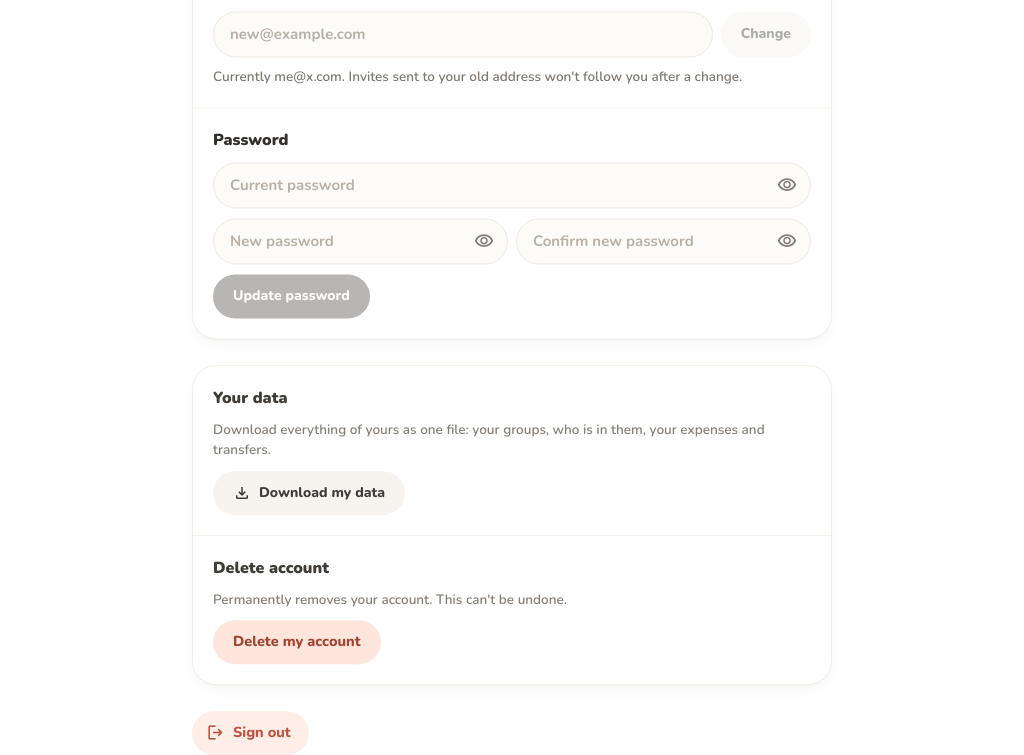
Account › if the database refuses (you own a group others are in), the reason is shown and you stay signed in
(page scrolled)
Click the button "Delete my account".
click(297, 642)  # box [213,620,380,664]
(page scrolled)
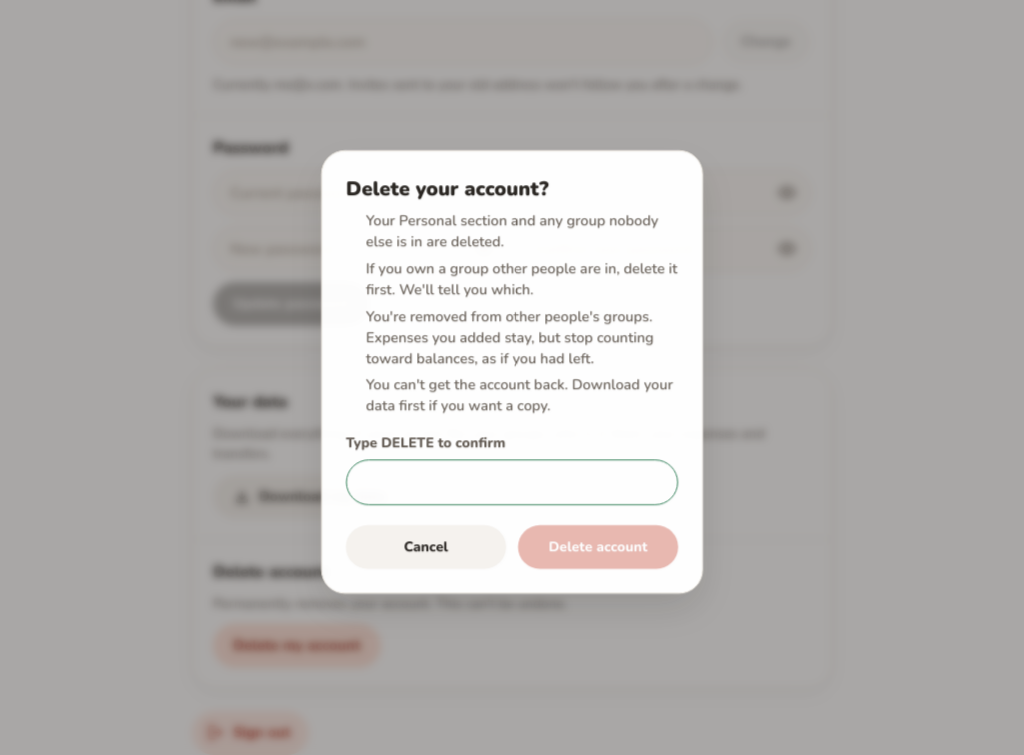
Type "DELETE" into the field labelled "Type DELETE to confirm".
click(512, 482); type("DELETE")  # box [346,460,678,505]
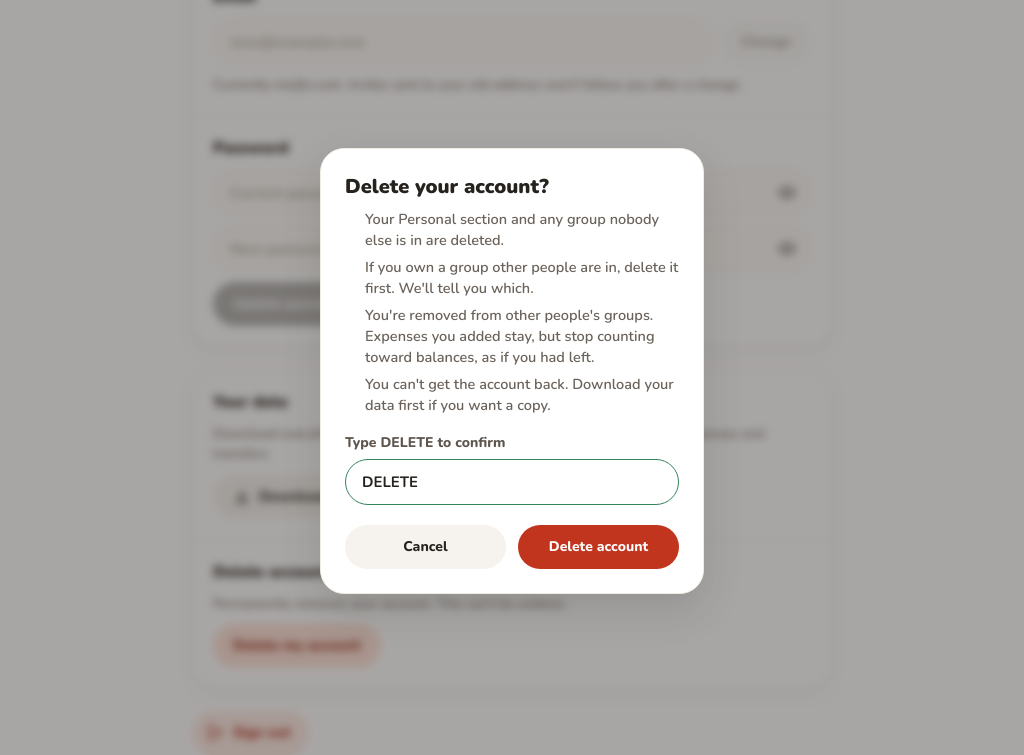
Click the button "Delete account".
click(598, 547)  # box [518,525,679,569]
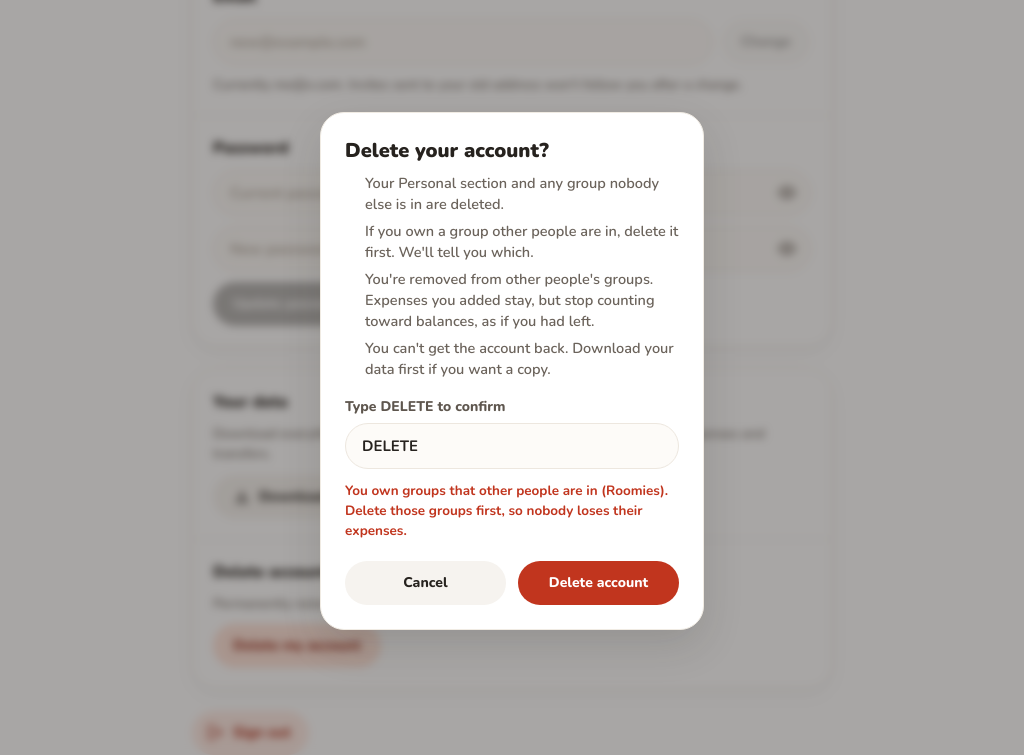
Now the button "Delete account" is enabled, box [518,561,679,605]
Now the message shows "You own groups that other people are in (Roomies)", box [345,481,668,540]
